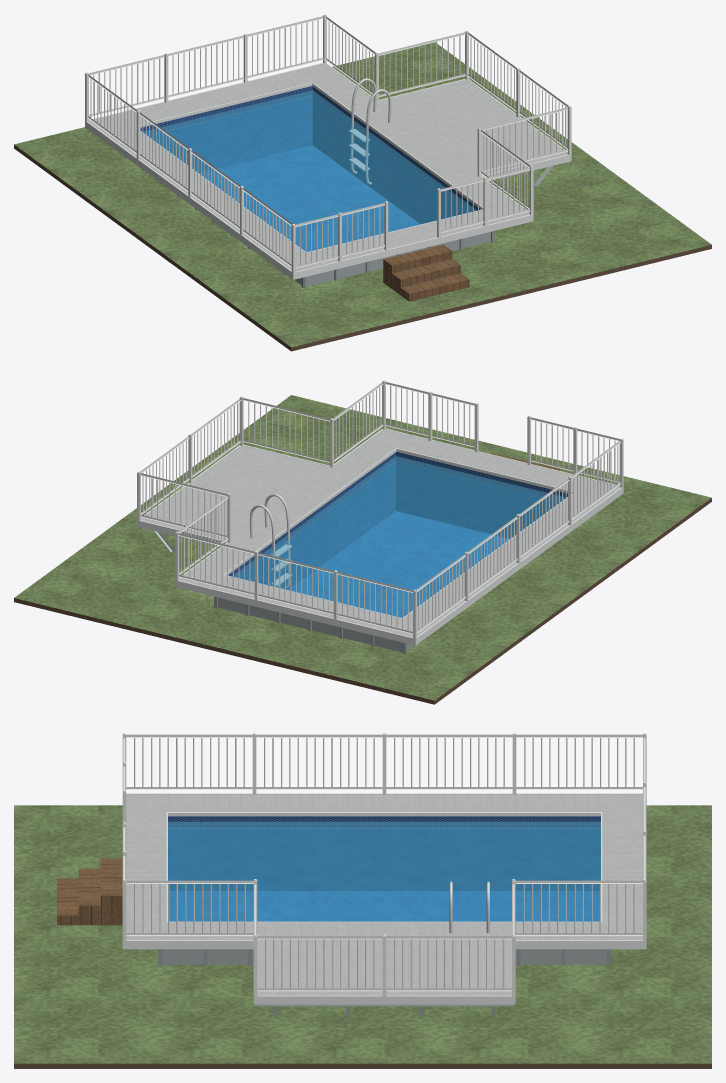
File: kayak-pool-12x20-gray-t-rec-fence.dcbeff3278.glb
3 views of the same model, one above another, from view 1: azimuth 30°, elevation 25°; view 2: azimuth 150°, elevation 25°; view 3: azimuth 270°, elevation 25° (orthographic). The views are drawn at different scales.
Parts seen in each view (by area): view 1: ground, water, deck, fence, liner_wall, liner_floor, fascia, steps, soil, wall, steel; view 2: ground, water, deck, fence, liner_wall, liner_floor, fascia, soil, wall, steel; view 3: ground, water, deck, liner_wall, fence, liner_floor, fascia, soil, steps, wall, stud.
Boxes of the visible parts, x1,y1,x2,y2 form: ground: (14,42,711,347); water: (143,90,476,251); deck: (88,63,567,271); fence: (85,14,571,272); liner_wall: (140,86,480,224); liner_floor: (198,145,420,251); fascia: (85,63,571,279); steps: (383,244,469,301); soil: (14,144,711,351); wall: (294,231,490,286); steel: (349,78,391,184); ground: (14,395,711,700); water: (232,456,565,617); deck: (141,429,620,637); fence: (137,380,623,638); liner_wall: (228,452,567,589); liner_floor: (288,511,509,617); fascia: (137,428,623,645); soil: (14,498,711,704); wall: (218,597,414,652); steel: (249,493,292,588); ground: (14,805,711,1063); water: (168,822,600,921); deck: (126,794,642,995); liner_wall: (168,816,600,891); fence: (122,733,646,996); liner_floor: (169,891,599,921); fascia: (122,793,646,1004); soil: (14,1063,711,1068); steps: (57,858,122,925); wall: (162,949,606,964); stud: (255,1004,513,1017).
Size of the model in its own units: 8.53 by 2.15 by 9.75.
13 materials, 5 textured.
